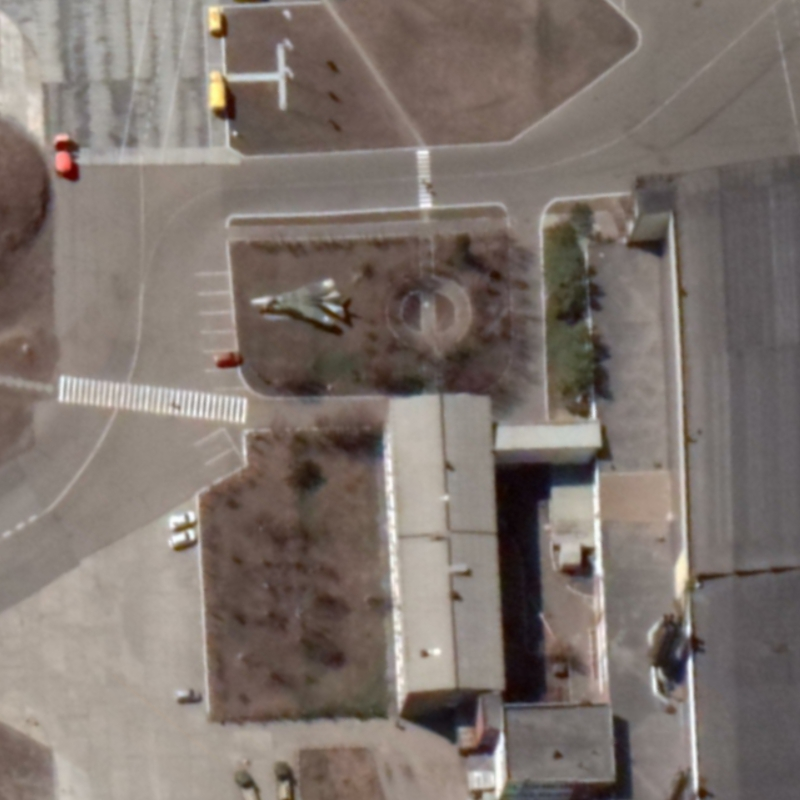A20: (247, 275, 350, 329)
